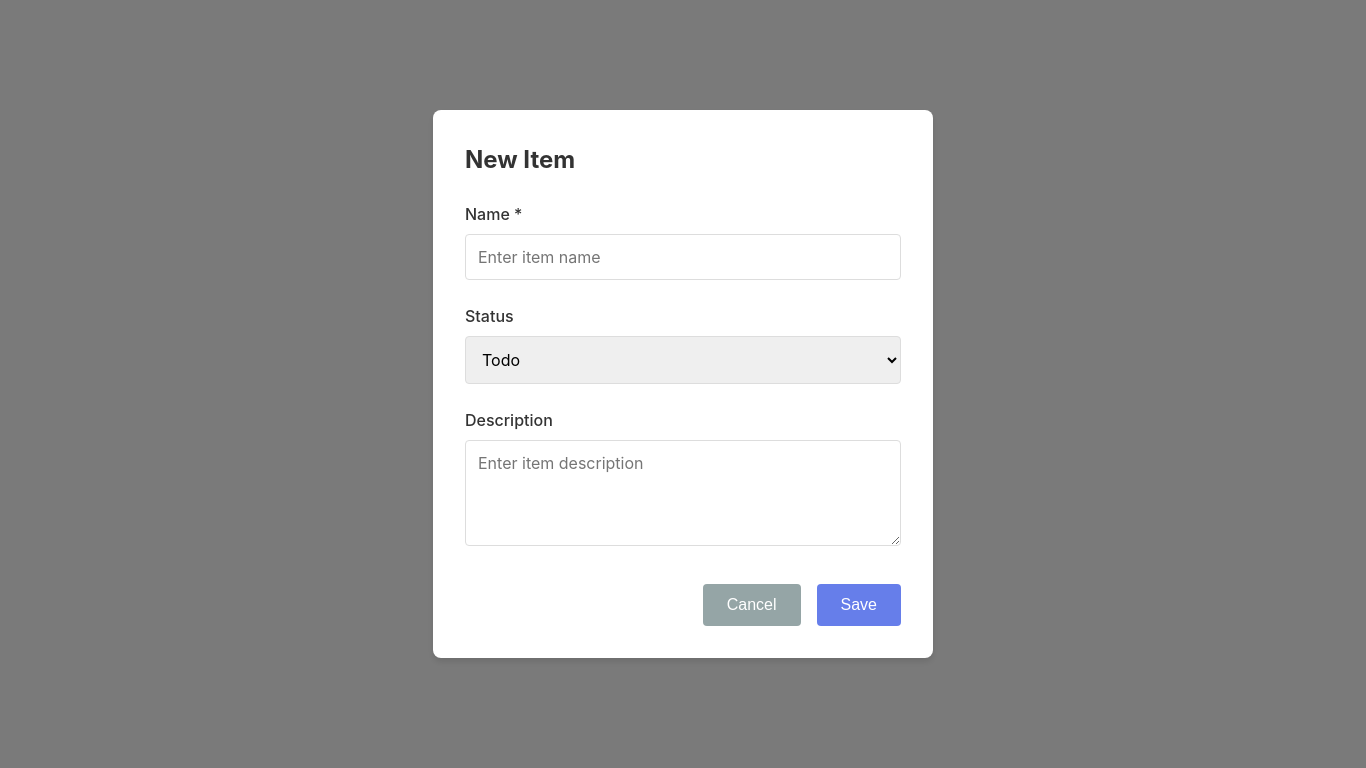
Scenario: ItemForm › should validate minimum name length
Step 1. Type "ab" into the field labelled "Name *" → (683,257), box [465,234,901,280]
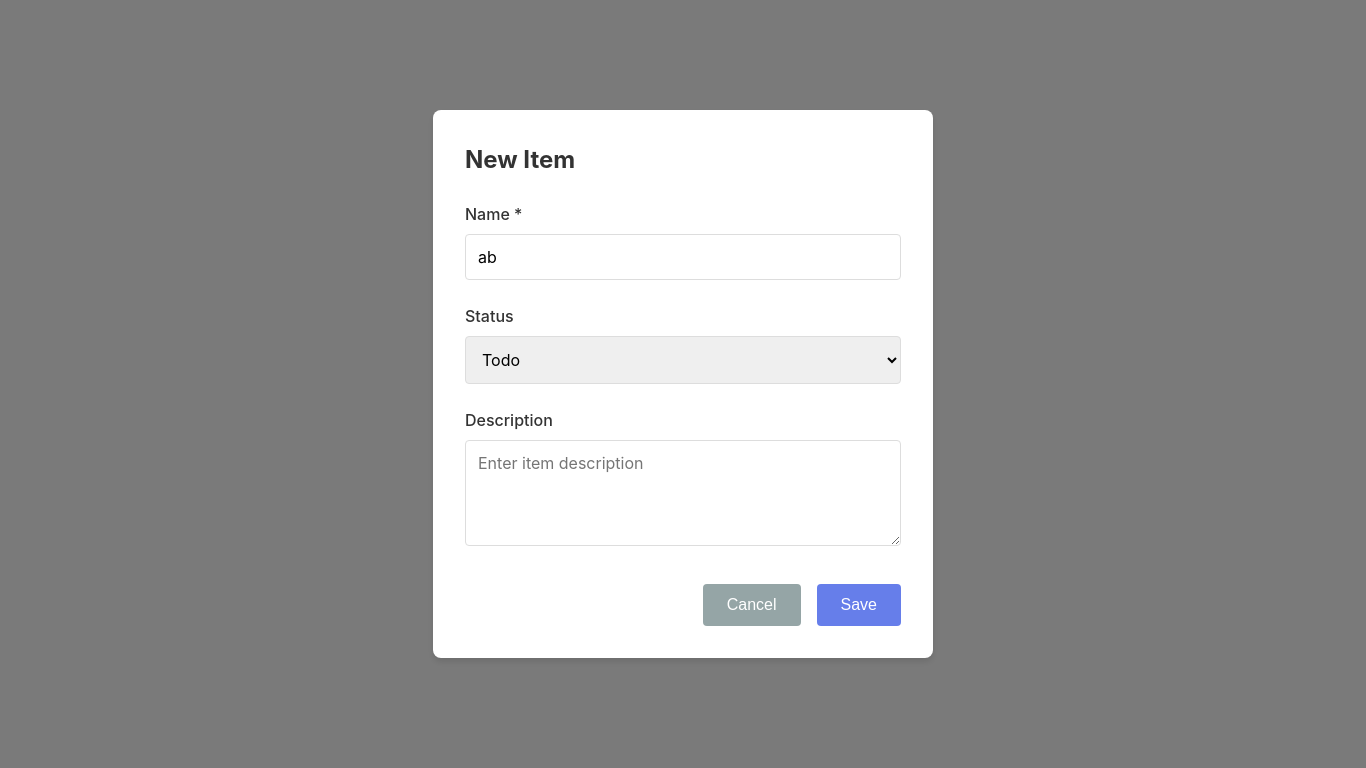
Step 2. Click the button "Save" → (859,605), box [816,584,901,626]
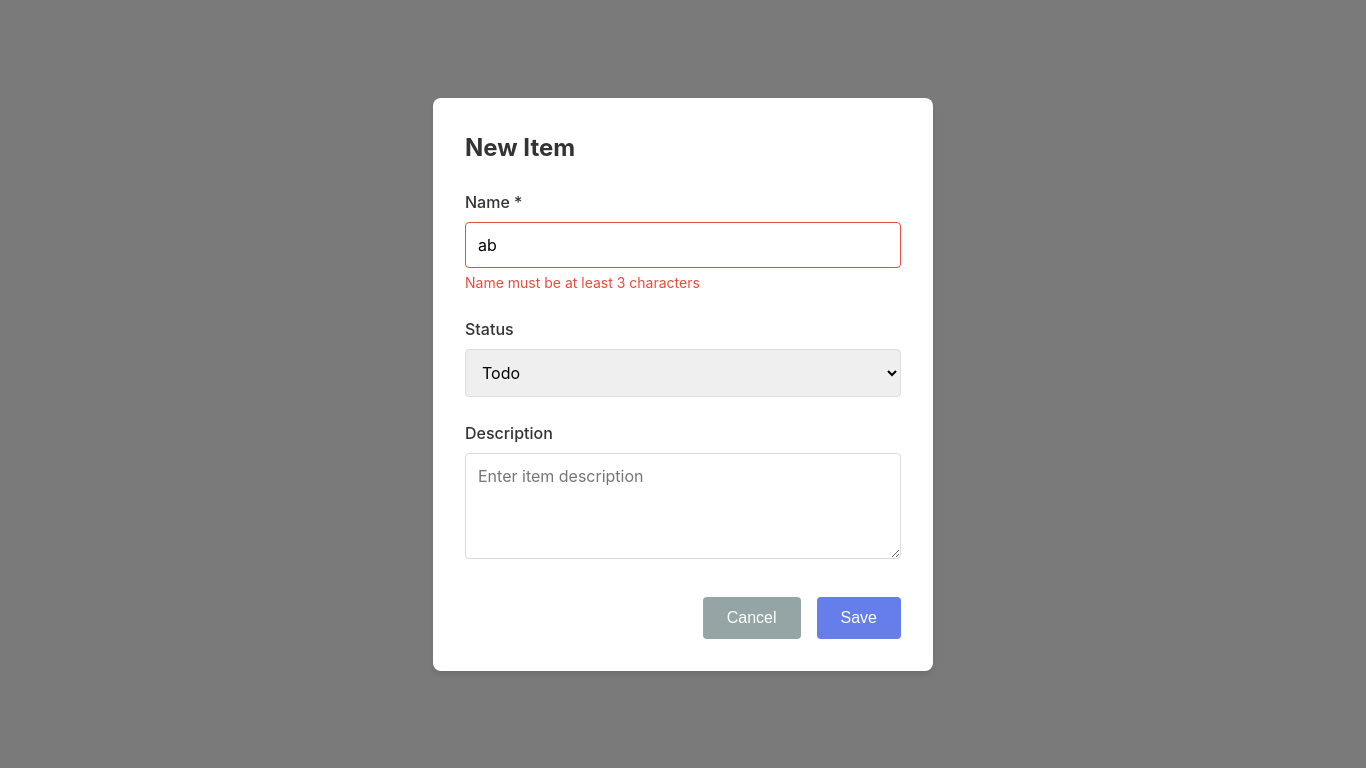
Check: the text "Name must be at least 3 characters" is shown, box [465,274,700,290]
